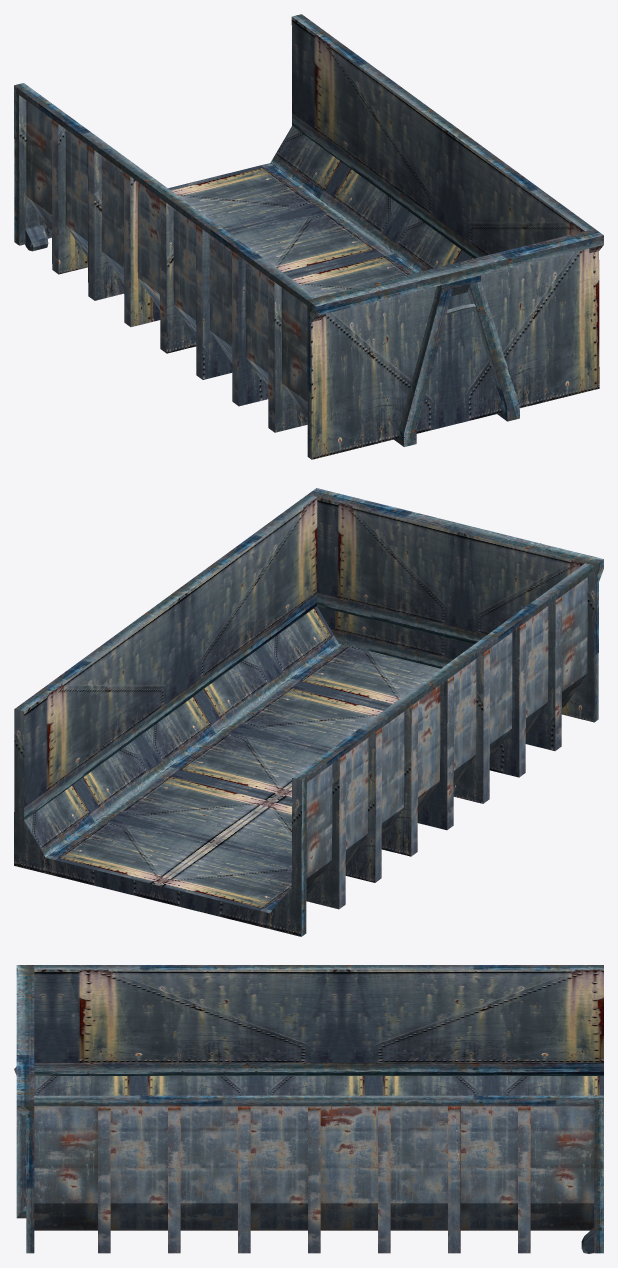
File: DumpsterDirty02a.FBX
3 views of the same model, one above another, from view 1: azimuth 30°, elevation 25°; view 2: azimuth 150°, elevation 25°; view 3: azimuth 270°, elevation 25° (orthographic). The views are drawn at different scales.
Visible parts, largest first — view 1: DumpsterDirty02; view 2: DumpsterDirty02; view 3: DumpsterDirty02.
Part boxes in pixels (x1,y1,x2,y2): DumpsterDirty02: (14,14,603,459); DumpsterDirty02: (14,488,603,936); DumpsterDirty02: (14,965,603,1253).
Size of the model in its own units: 3499 by 1891 by 6386.
